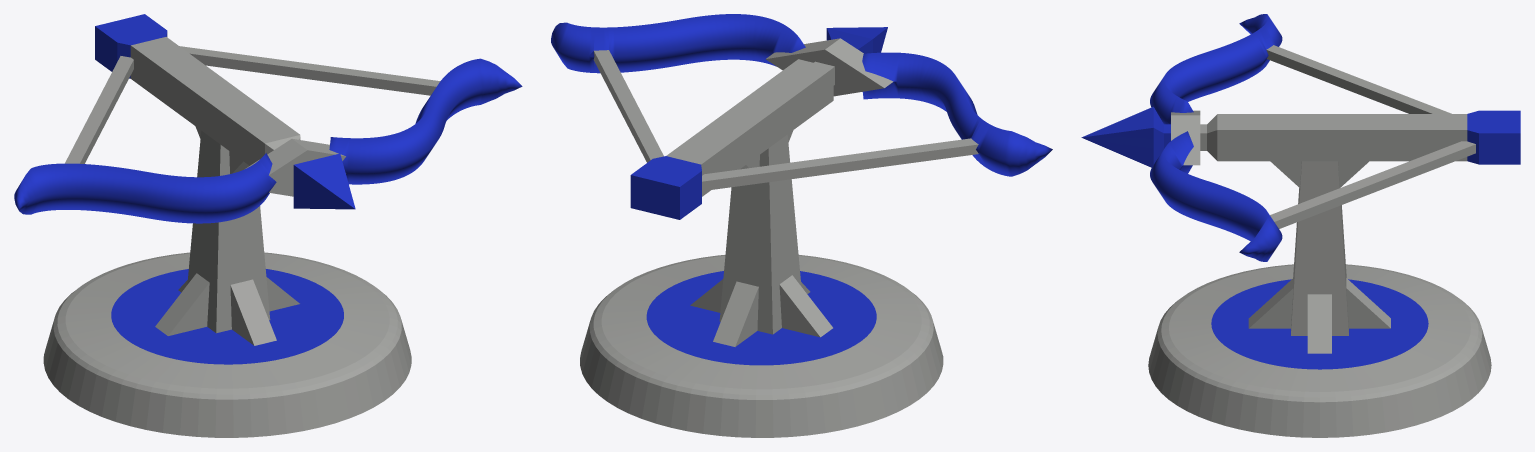
File: ballista_water.fbx
3 renders of one model, left to right at view 1: azimuth 30°, elevation 25°; view 2: azimuth 150°, elevation 25°; view 3: azimuth 270°, elevation 25°, orthographic. The views are drawn at different scales.
Visible parts, largest first — view 1: Circle; view 2: Circle; view 3: Circle.
Boxes of the visible parts, x1=… form: Circle: x1=14, y1=14, x2=522, y2=437; Circle: x1=551, y1=14, x2=1052, y2=437; Circle: x1=1081, y1=14, x2=1520, y2=437.
Bounding box in the file's own units: 410 × 209 × 333.
Materials: 1 (1 with a texture image).
